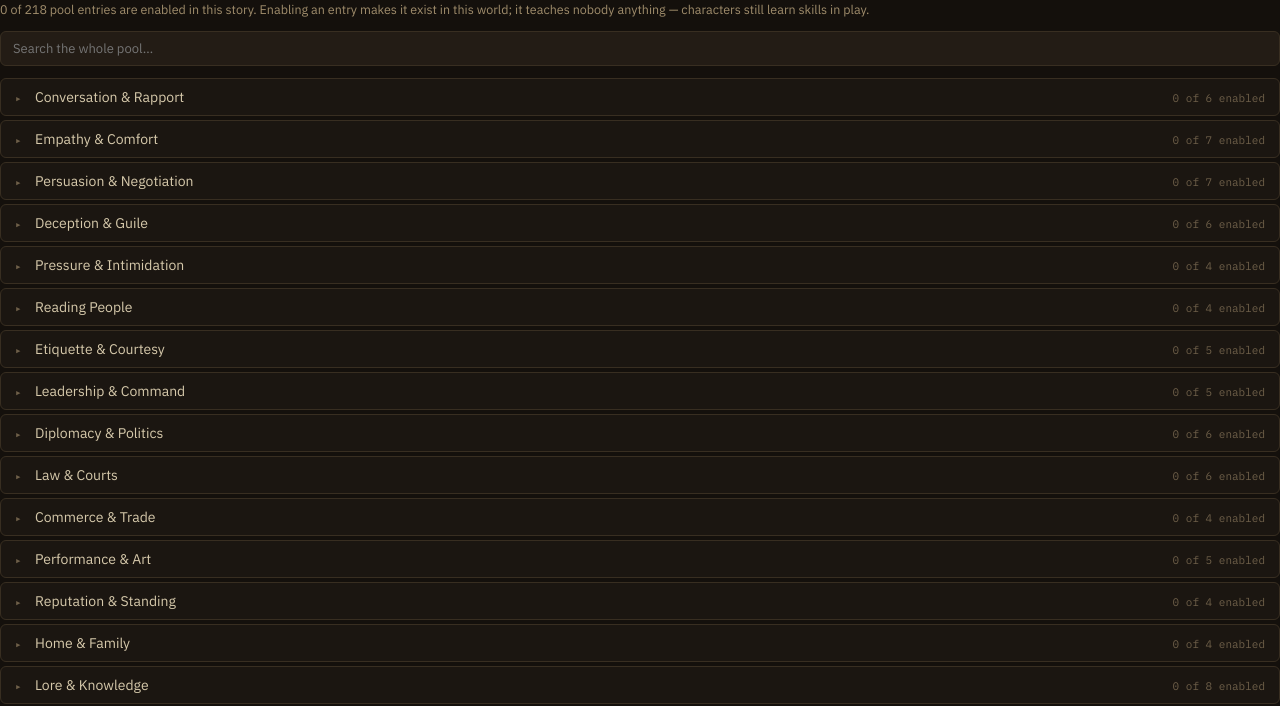
Test case: PoolBrowser › shows a tier lock as when it unlocks, with no toggle
This screenshot has width=1280, height=706.
Click the button "▸ Leadership & Command 0 of 5 enabled": (110, 391) x1=1 y1=373 x2=1279 y2=409
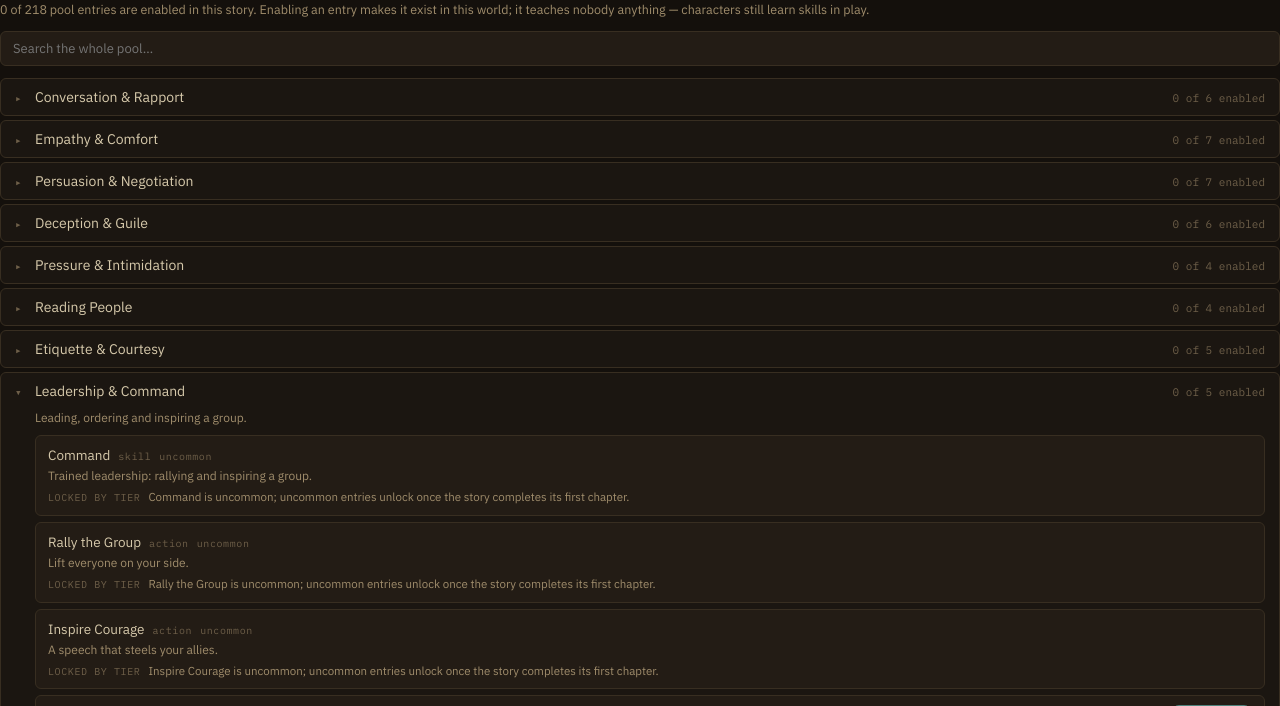
Expected: the 1st text "LOCKED BY TIER" is shown, x1=48 y1=490 x2=140 y2=505
Expected: the text "Command is uncommon; uncommon entries unlock once the story completes its first chapter." is shown, x1=148 y1=489 x2=629 y2=504
